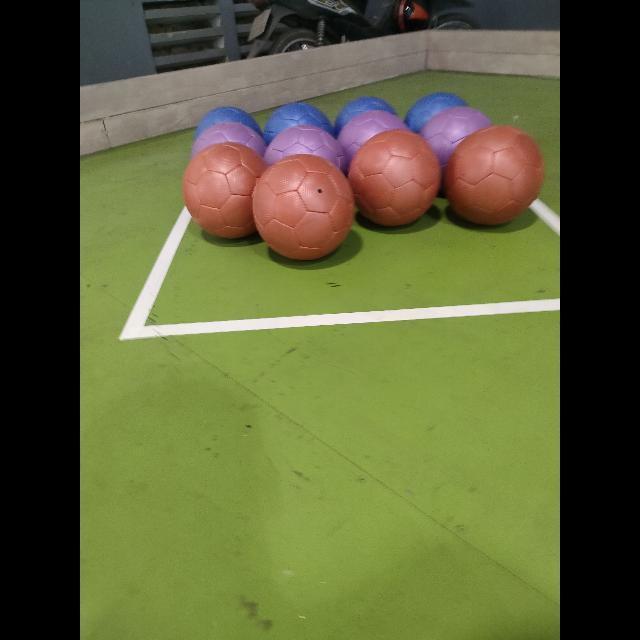B: (264, 102, 332, 146), (404, 92, 468, 134), (334, 98, 400, 136), (195, 107, 261, 137)
P: (420, 107, 492, 173), (337, 110, 408, 174), (193, 121, 265, 159)
R: (252, 154, 354, 260), (444, 126, 544, 224), (348, 130, 440, 226), (180, 143, 272, 235)
